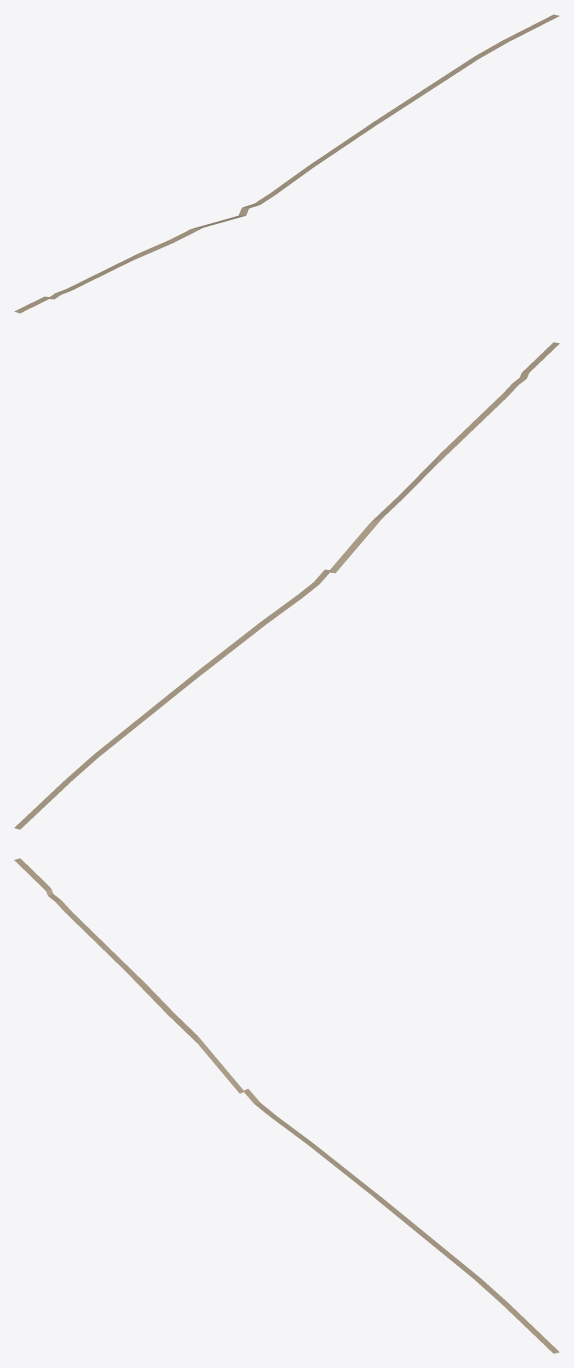
File: farm_2_-2_track.glb
3 views of the same model, one above another, from view 1: azimuth 30°, elevation 25°; view 2: azimuth 210°, elevation 25°; view 3: azimuth 270°, elevation 25° (orthographic).
Visible parts, largest first — view 1: geometry_0; view 2: geometry_0; view 3: geometry_0.
Part boxes in pixels (box(x1,y1,x2,y2)): geometry_0: box(14, 14, 559, 313); geometry_0: box(14, 342, 559, 829); geometry_0: box(14, 858, 559, 1353).
Bounding box in the file's own units: 424 × 47.38 × 245.
